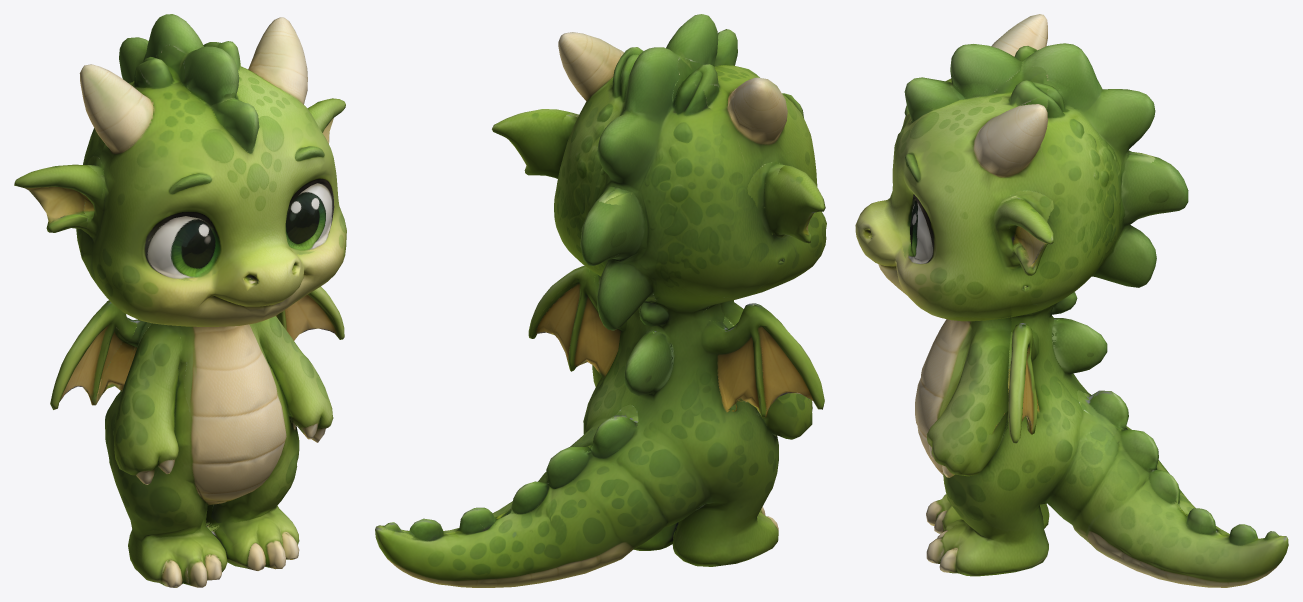
The model's file is dragon.glb.
3 renders of one model, left to right at view 1: azimuth 30°, elevation 25°; view 2: azimuth 150°, elevation 25°; view 3: azimuth 270°, elevation 25°, orthographic. The views are drawn at different scales.
Visible parts, largest first — view 1: texture_mapping; view 2: texture_mapping; view 3: texture_mapping.
Part boxes in pixels (bbox=[...]): texture_mapping: bbox=[14, 14, 346, 587]; texture_mapping: bbox=[375, 14, 826, 587]; texture_mapping: bbox=[855, 14, 1288, 587].
Size of the model in its own units: 0.6753 by 1 by 0.788.
1 material, 1 textured.
